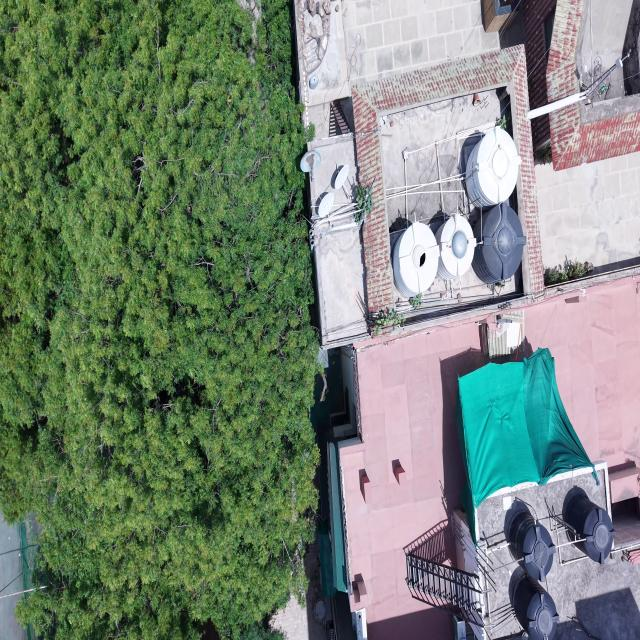ROOFTOP_BUILDING: (295, 0, 639, 639), (296, 0, 639, 346), (295, 0, 543, 346), (336, 46, 543, 330), (352, 46, 543, 312), (340, 315, 488, 639), (523, 0, 639, 273), (478, 466, 639, 639), (521, 0, 639, 170), (546, 0, 639, 170), (309, 135, 367, 346)
VEGETATION_TREE: (0, 0, 318, 639), (545, 257, 593, 286)
